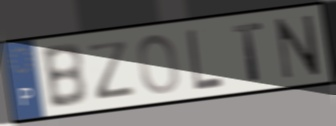B: (38, 41, 90, 112)
L: (185, 27, 226, 92)
N: (274, 12, 322, 81)
O: (136, 31, 182, 96)
T: (231, 20, 266, 83)
Z: (85, 37, 137, 102)
